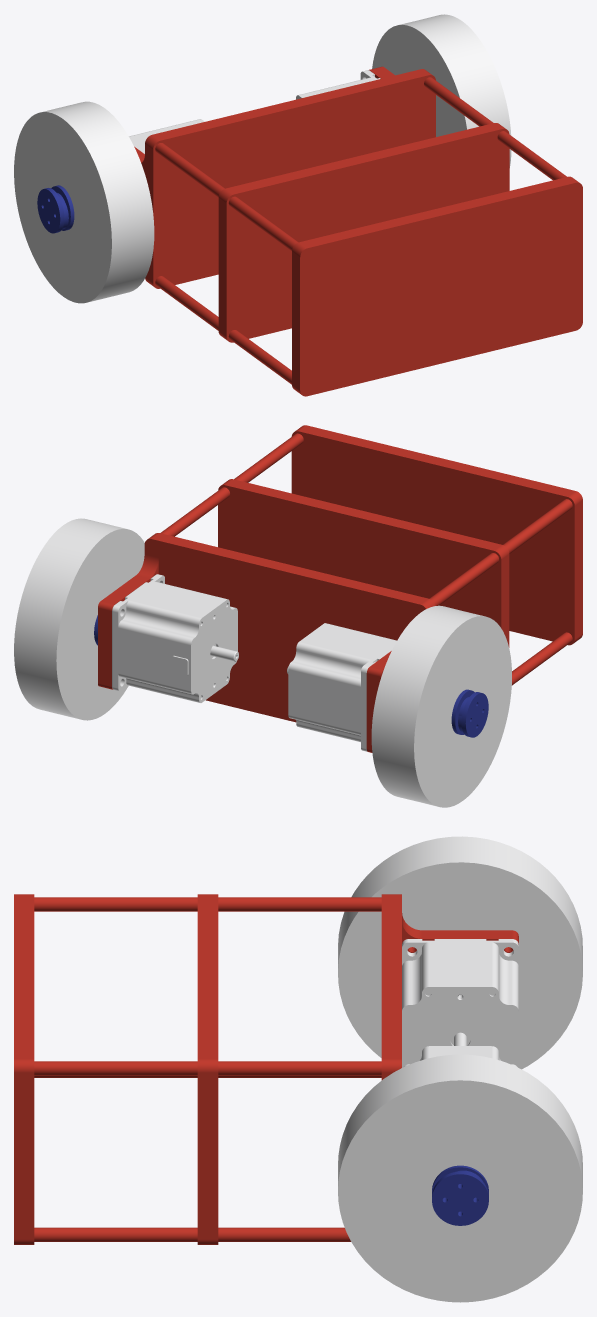
Rendered from balancing_robot.fbx.
The picture shows the model from 3 angles, top to bottom: view 1: azimuth 30°, elevation 25°; view 2: azimuth 150°, elevation 25°; view 3: azimuth 270°, elevation 25°; orthographic projection. The views are drawn at different scales.
Visible parts, largest first — view 1: base1, Body1 (×4); view 2: base1, Body1 (×5); view 3: Body1 (×5), base1.
Boxes of the visible parts, x1,y1,x2,y2 form: base1: (134, 66, 582, 396); Body1 (×4): (14, 14, 511, 303); base1: (98, 425, 582, 752); Body1 (×5): (14, 518, 511, 807); Body1 (×5): (338, 836, 582, 1302); base1: (14, 894, 518, 1244).
Size of the model in its own units: 303 by 120 by 279.
